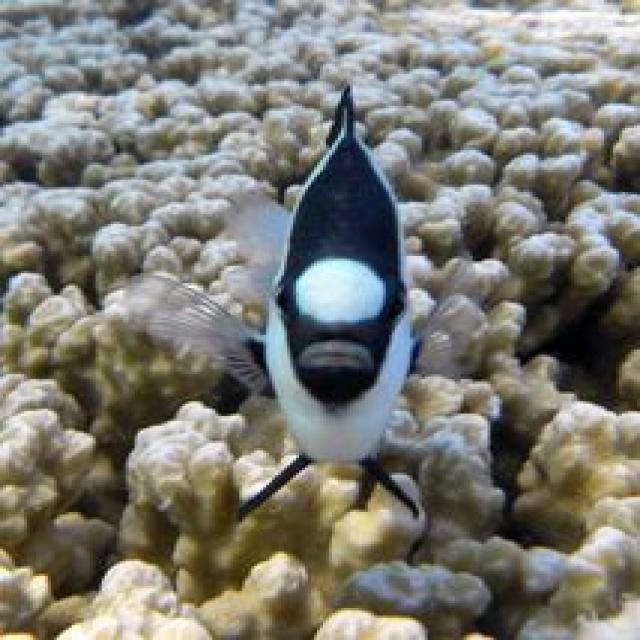ThreeStripedDamselfish: (123, 86, 490, 463)
